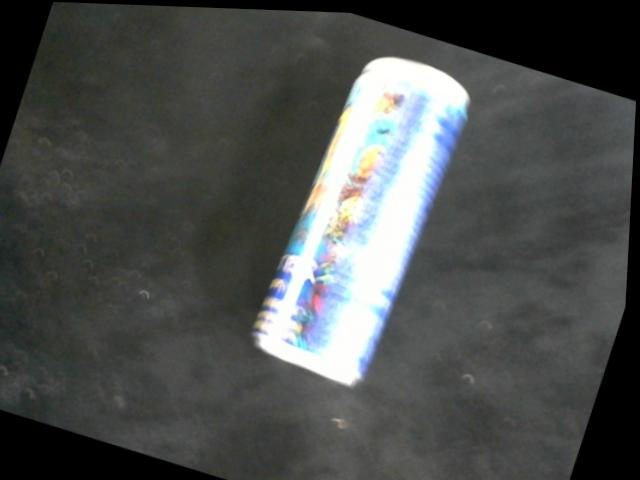can: (249, 53, 473, 387)
